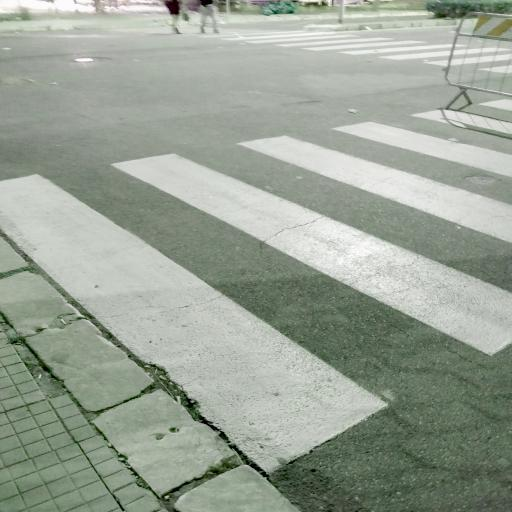crosswalk: (108, 128, 512, 359)
